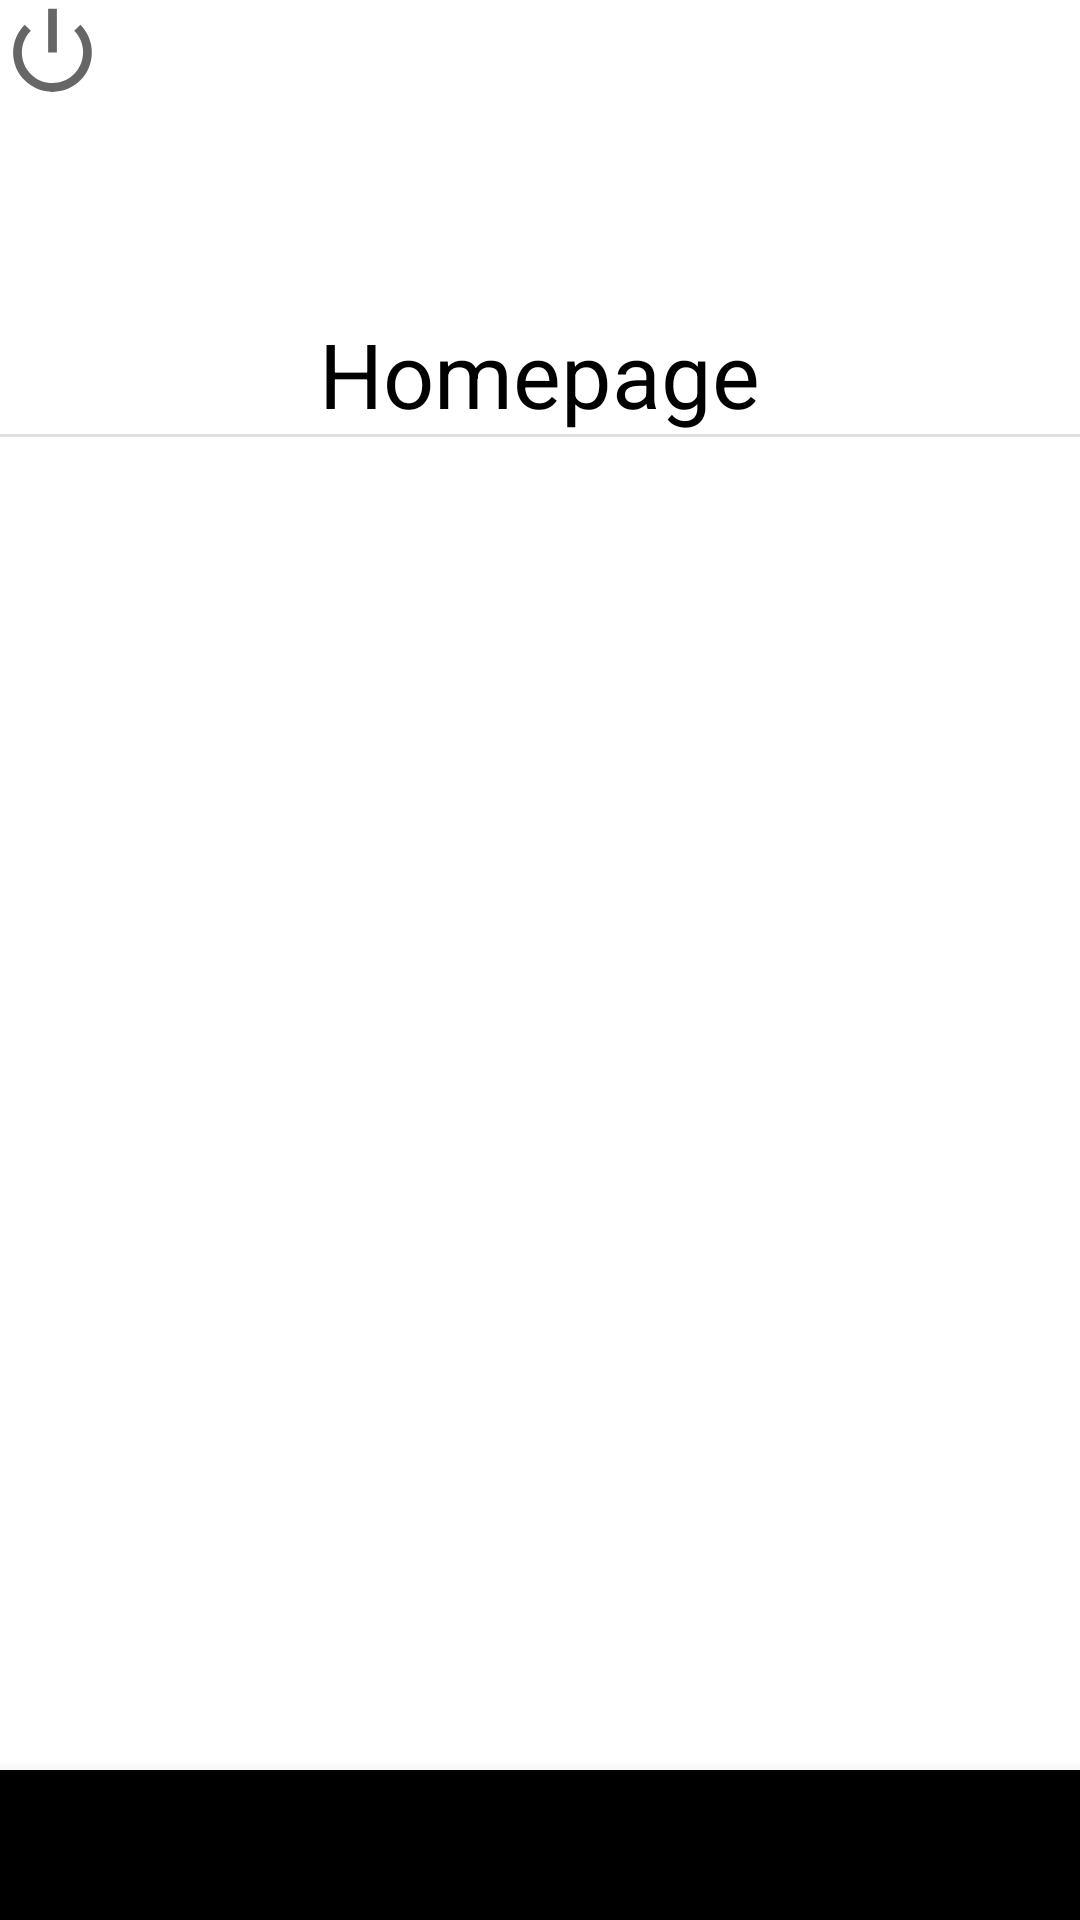

Screen size 1080*1920. Icon name, then its box in pixels as [x1,y1,x2,y2]:
lock power off: [13,8,92,92]
